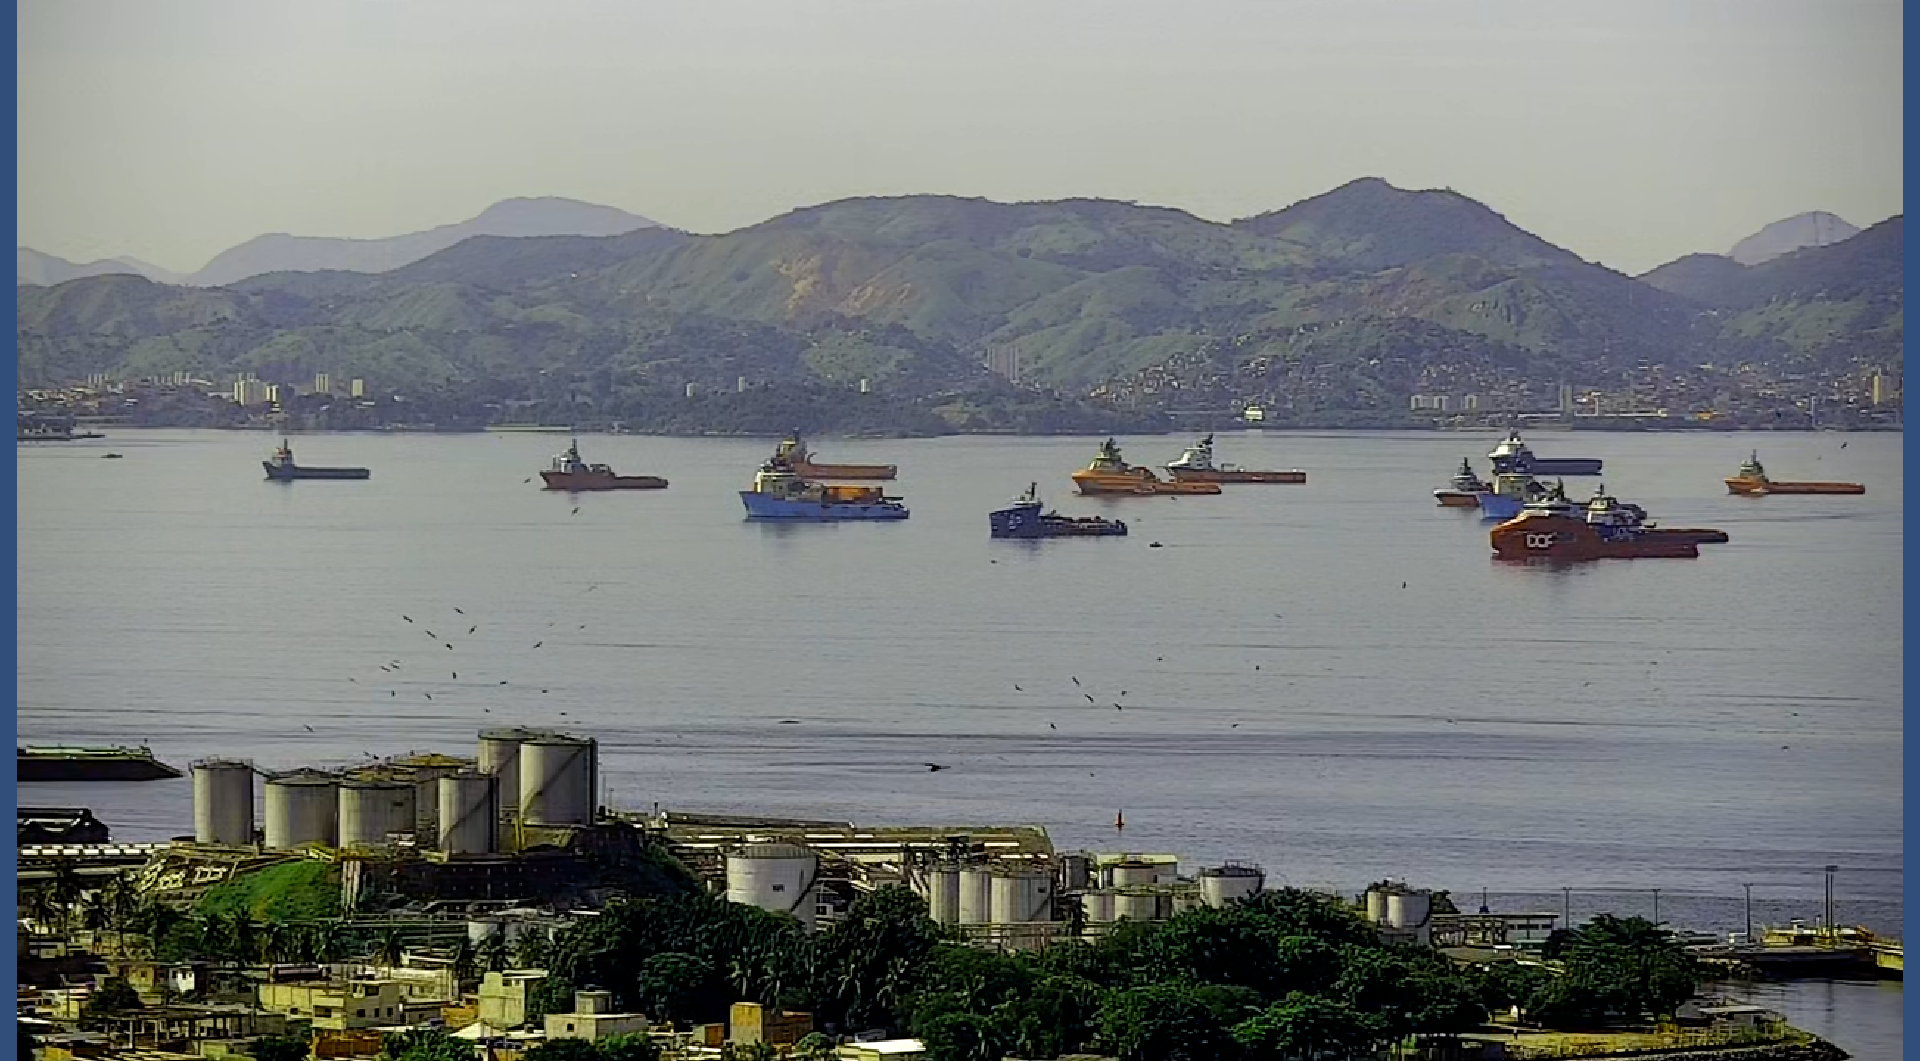Ship5: (1486, 490, 1704, 563), (735, 456, 916, 525), (1071, 434, 1228, 498), (1576, 486, 1731, 547), (986, 480, 1132, 542), (1157, 431, 1311, 487), (1473, 464, 1612, 519), (538, 436, 673, 491), (768, 426, 901, 481), (1723, 452, 1870, 497), (1485, 429, 1607, 476), (260, 435, 371, 481), (1432, 455, 1523, 507)
